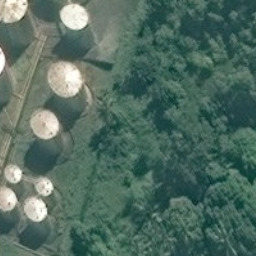buildings: (44, 62, 96, 115), (1, 1, 52, 47), (31, 110, 76, 157), (1, 37, 26, 100), (58, 2, 92, 40), (1, 188, 29, 223), (25, 197, 53, 229), (36, 176, 60, 203), (3, 162, 26, 183)
